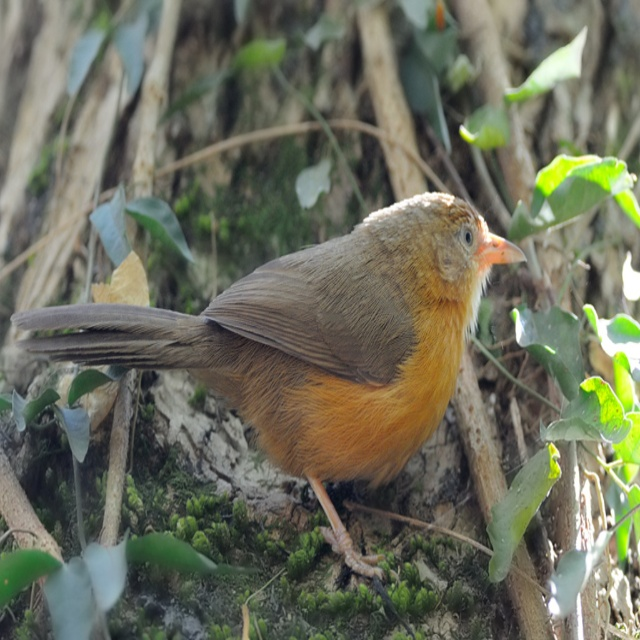Canary: (11, 187, 531, 583)
